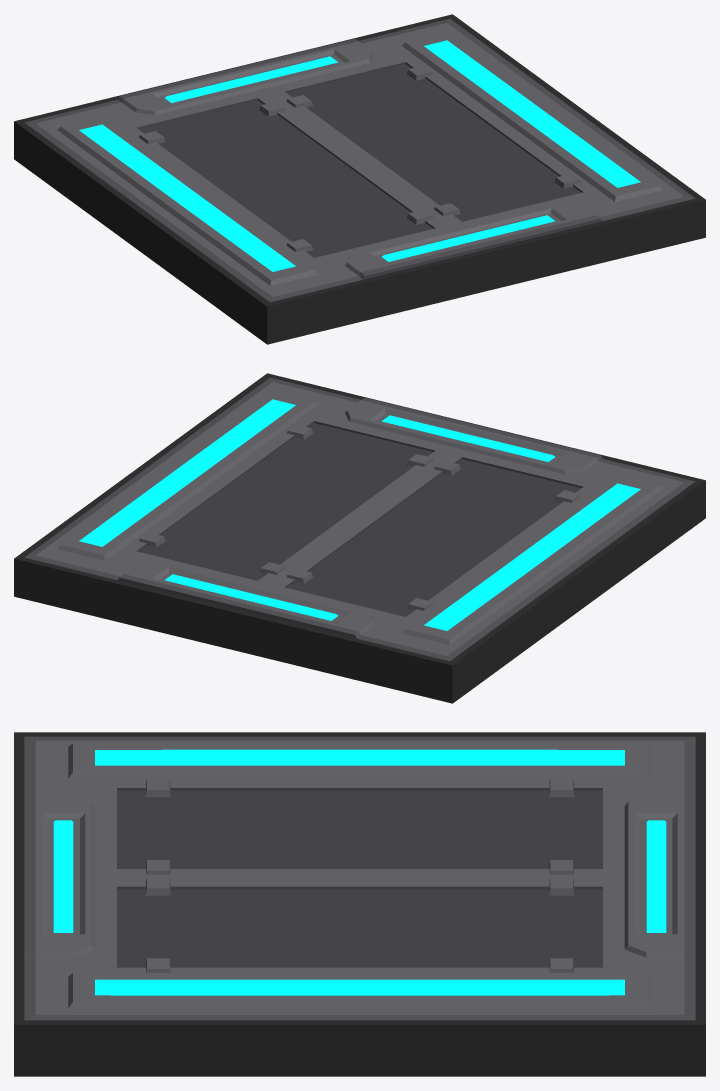
File: SM_Bld_Floor_Small_07.fbx
3 renders of one model, top to bottom at view 1: azimuth 30°, elevation 25°; view 2: azimuth 150°, elevation 25°; view 3: azimuth 270°, elevation 25°, orthographic. The views are drawn at different scales.
Visible parts, largest first — view 1: SM_Bld_Floor_Small_07_LOD0; view 2: SM_Bld_Floor_Small_07_LOD0; view 3: SM_Bld_Floor_Small_07_LOD0.
Part boxes in pixels (x1,y1,x2,y2): SM_Bld_Floor_Small_07_LOD0: [14, 14, 705, 344]; SM_Bld_Floor_Small_07_LOD0: [14, 373, 705, 703]; SM_Bld_Floor_Small_07_LOD0: [14, 732, 705, 1076].
Size of the model in its own units: 250 by 250 by 23.02.
Materials: 1 (1 with a texture image).
